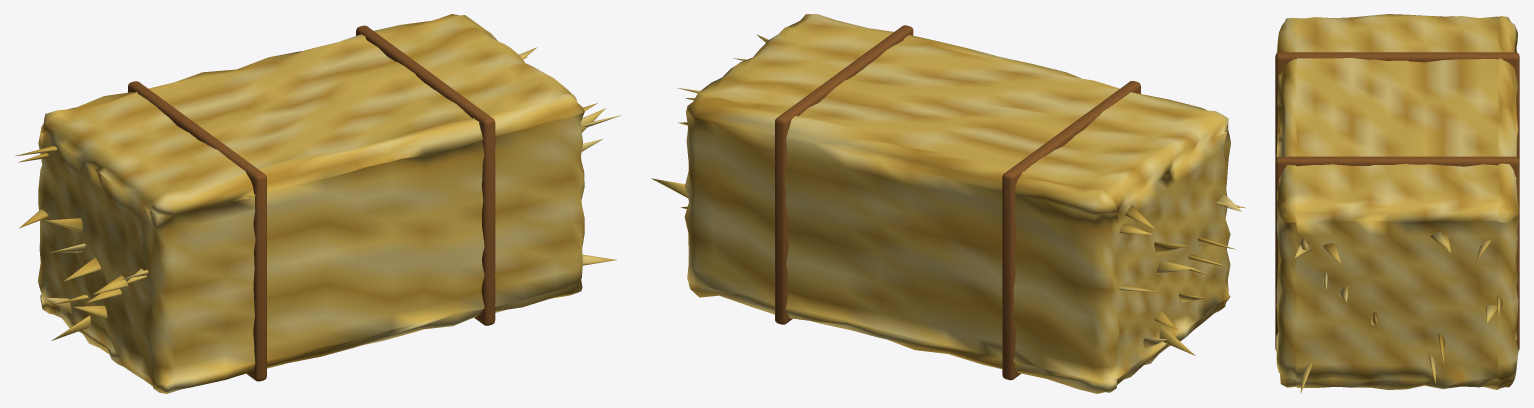
Rendered from hay_bale.glb.
3 views of the same model, side by side, from view 1: azimuth 30°, elevation 25°; view 2: azimuth 150°, elevation 25°; view 3: azimuth 270°, elevation 25° (orthographic). The views are drawn at different scales.
Visible parts, largest first — view 1: hay_bale; view 2: hay_bale; view 3: hay_bale.
Part boxes in pixels (x1,y1,x2,y2): hay_bale: [15, 14, 621, 393]; hay_bale: [651, 14, 1246, 393]; hay_bale: [1275, 14, 1519, 393].
Size of the model in its own units: 1.07 by 0.415 by 0.475.
